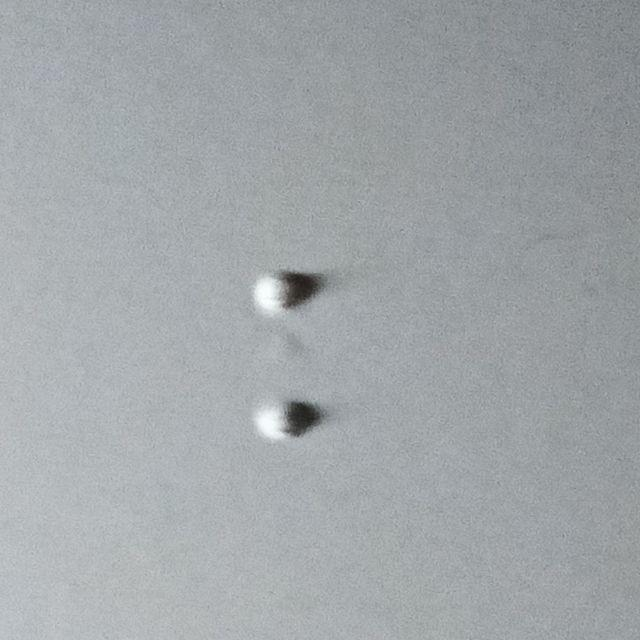kaya: (254, 265, 366, 441)
